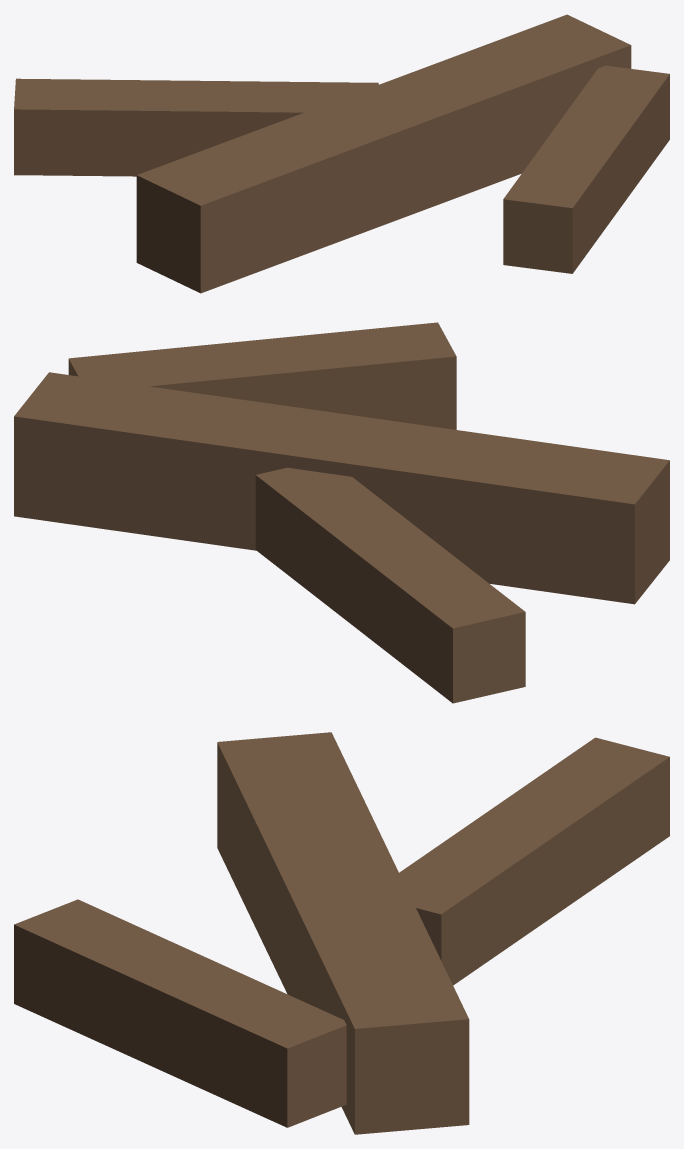
File: df_twisted_root_blocker_a.glb
3 views of the same model, one above another, from view 1: azimuth 30°, elevation 25°; view 2: azimuth 150°, elevation 25°; view 3: azimuth 270°, elevation 25° (orthographic). The views are drawn at different scales.
Parts seen in each view (by area): view 1: root_main, root_a, root_b; view 2: root_main, root_a, root_b; view 3: root_main, root_b, root_a.
Boxes of the visible parts, x1,y1,x2,y2 form: root_main: (136,14,631,293); root_a: (14,78,378,176); root_b: (503,65,669,273); root_main: (14,372,669,604); root_a: (255,467,525,703); root_b: (68,322,456,429); root_main: (217,732,469,1134); root_b: (14,899,346,1127); root_a: (399,737,669,985).
Size of the model in its own units: 1.01 by 0.16 by 0.8993.
